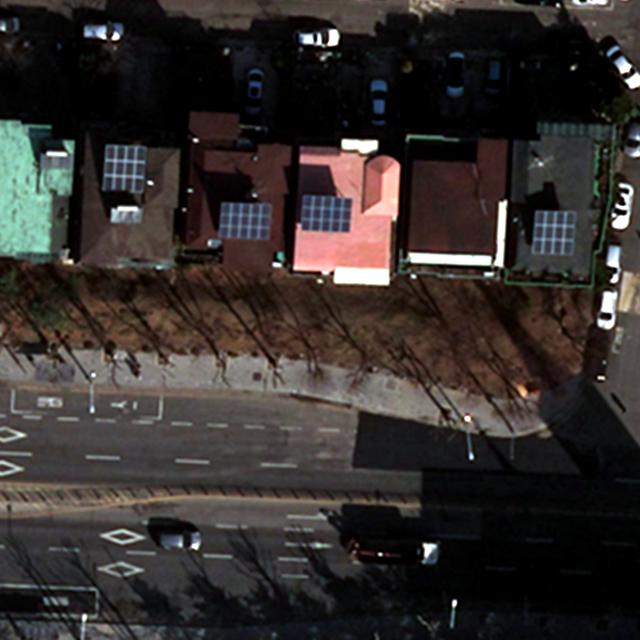solarpanel: (215, 200, 274, 242), (296, 192, 353, 235), (102, 141, 147, 195), (530, 208, 578, 258)
